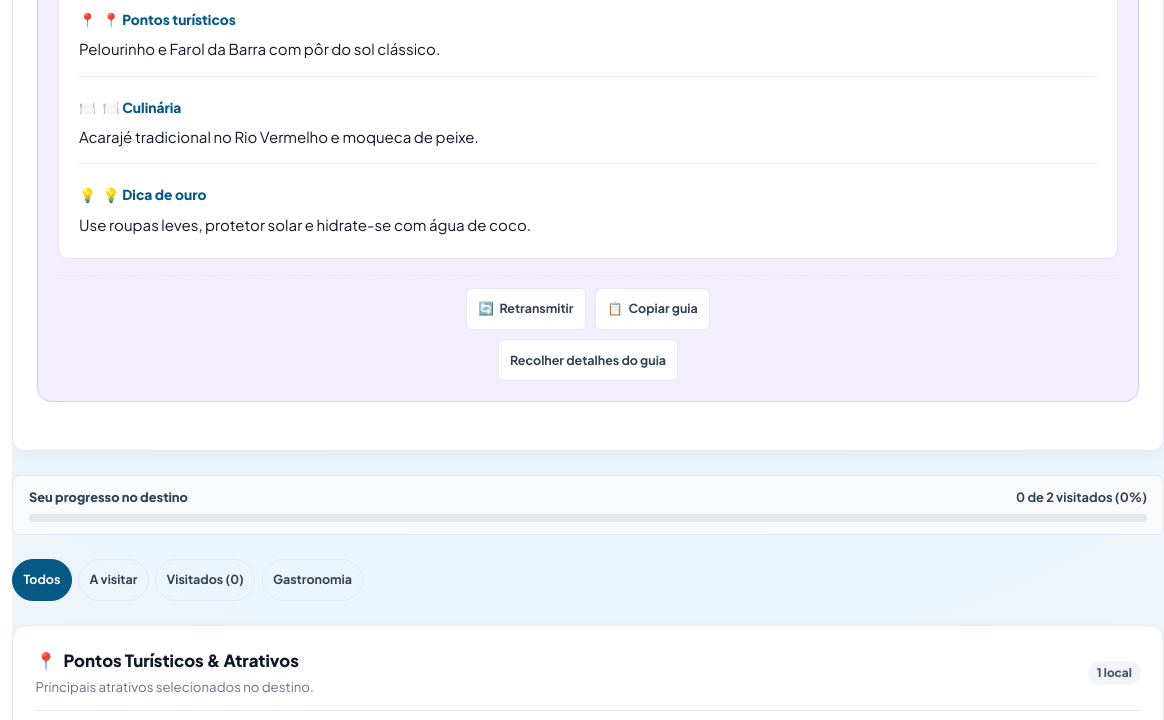
Test: RoteiroResult (Tópico 3.5: Clima, Guia em Streaming e Atrativos) › reusa o guia planejado sem gerar novamente e preserva o texto ao recolher detalhes
(page scrolled)
What coordinates should you click on to do the following:
click the button "Recolher detalhes do guia"
I would click on:
 (588, 360)
Its box is [498,339,678,381].
(page scrolled)
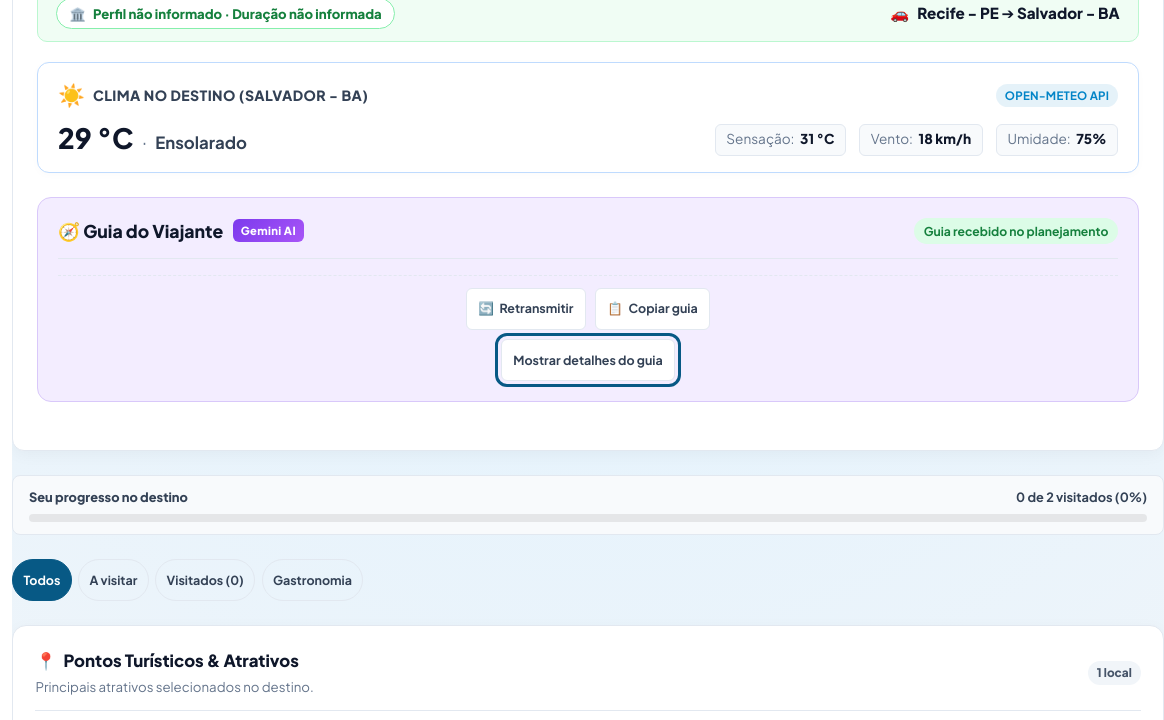
Now the button "Mostrar detalhes do guia" is collapsed
What coordinates should you click on to do the following:
click the button "Mostrar detalhes do guia"
I would click on:
 (588, 360)
Its box is [501,339,675,381].
(page scrolled)
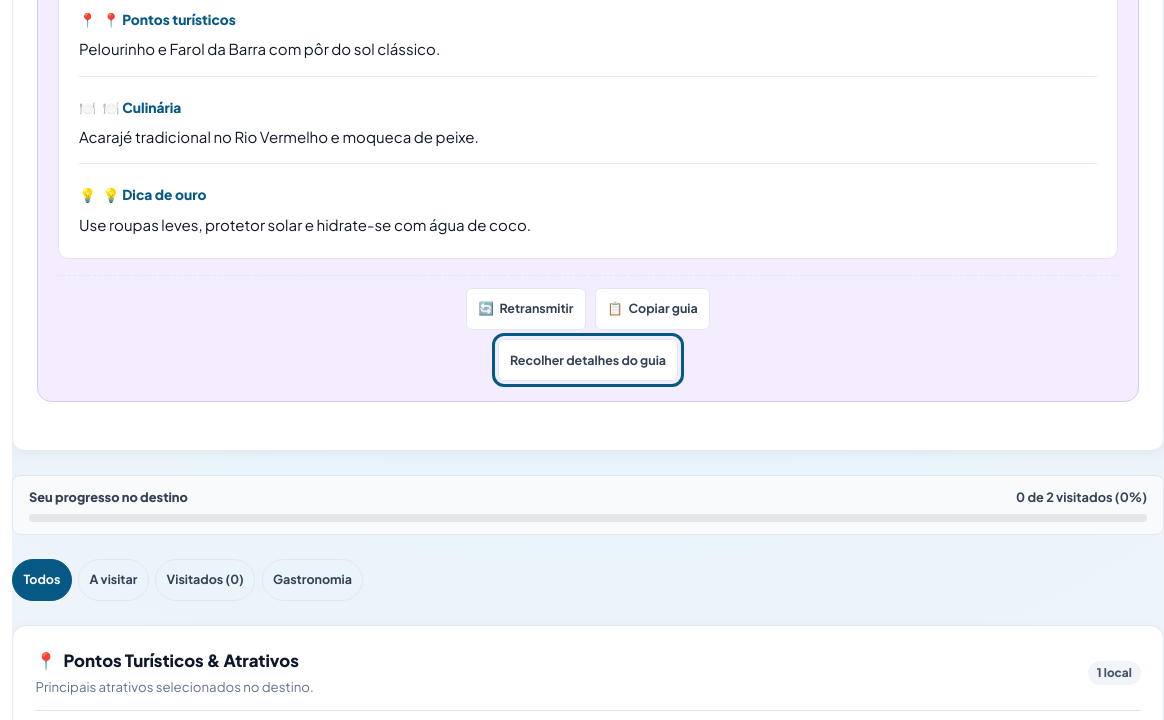
Now the text "Pelourinho e Farol da Barra com pôr do sol clássico." is shown, box [79,39,440,58]
